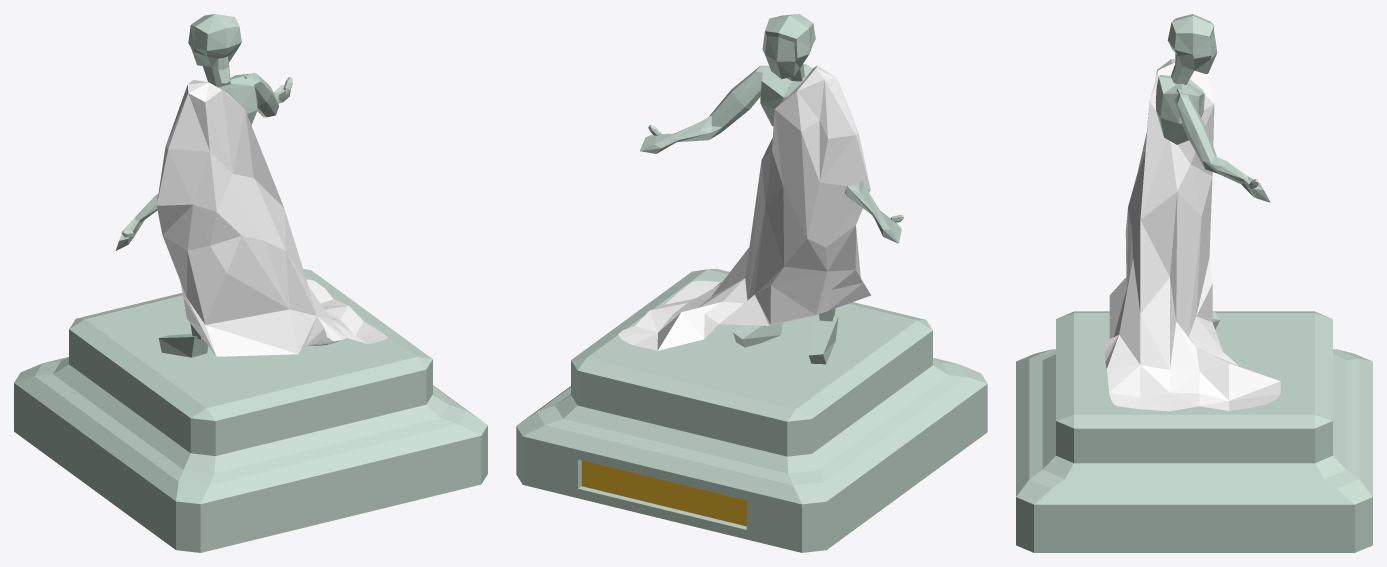
The model's file is G477Proj2Statue 1.fbx.
3 renders of one model, left to right at view 1: azimuth 30°, elevation 25°; view 2: azimuth 150°, elevation 25°; view 3: azimuth 270°, elevation 25°, orthographic.
Parts seen in each view (by area): view 1: Statue; view 2: Statue, Plaque3, Plaque1, Plaque2; view 3: Statue.
Boxes of the visible parts, bbox=[...] form: Statue: bbox=[14, 14, 487, 552]; Statue: bbox=[516, 14, 987, 552]; Plaque3: bbox=[679, 485, 746, 526]; Plaque1: bbox=[581, 460, 639, 498]; Plaque2: bbox=[624, 470, 690, 512]; Statue: bbox=[1016, 14, 1372, 552].
Size of the model in its own units: 174 by 239 by 174.
